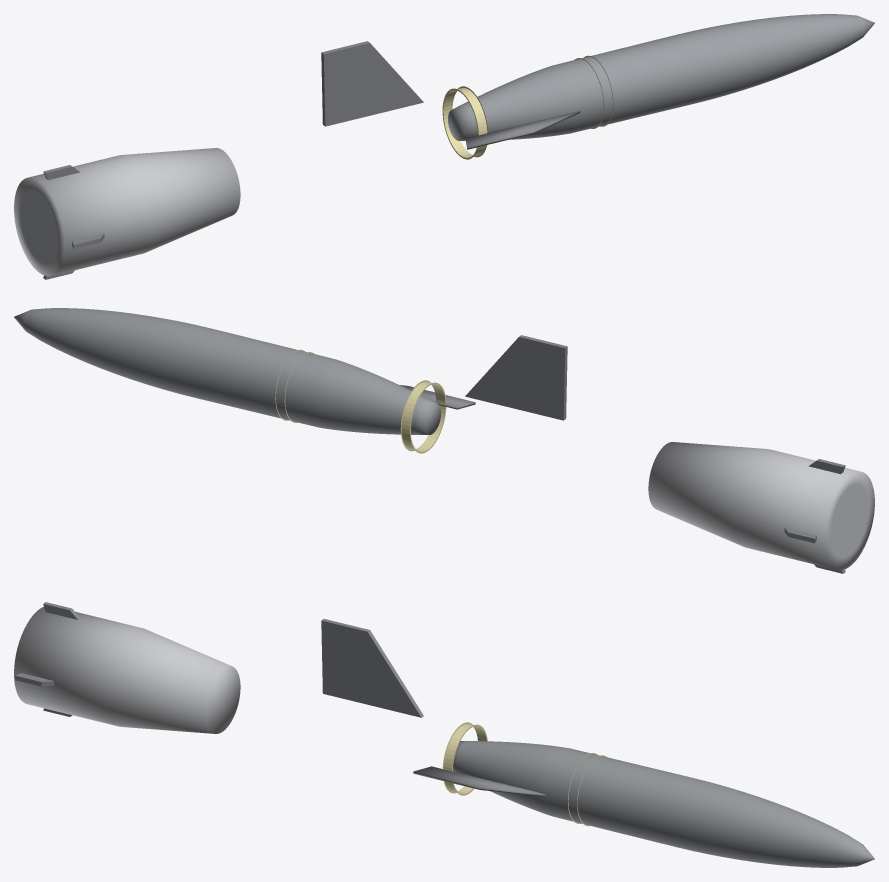
The model's file is US_ASM_Harpoon_LOD0.fbx.
3 renders of one model, top to bottom at view 1: azimuth 30°, elevation 25°; view 2: azimuth 150°, elevation 25°; view 3: azimuth 330°, elevation 25°, orthographic.
Visible parts, largest first — view 1: WPN_US_ASM_Harpoon_LOD0_Body, WPN_US_ASM_Harpoon_LOD0_Tail, WPN_US_ASM_Harpoon_LOD0_Wings, WPN_US_ASM_Harpoon_LOD0_Marking, WPN_US_ASM_Harpoon_LOD0_Detail, WPN_US_ASM_Harpoon_LOD0_Fins; view 2: WPN_US_ASM_Harpoon_LOD0_Body, WPN_US_ASM_Harpoon_LOD0_Tail, WPN_US_ASM_Harpoon_LOD0_Wings, WPN_US_ASM_Harpoon_LOD0_Marking, WPN_US_ASM_Harpoon_LOD0_Fins; view 3: WPN_US_ASM_Harpoon_LOD0_Body, WPN_US_ASM_Harpoon_LOD0_Tail, WPN_US_ASM_Harpoon_LOD0_Wings, WPN_US_ASM_Harpoon_LOD0_Detail, WPN_US_ASM_Harpoon_LOD0_Marking, WPN_US_ASM_Harpoon_LOD0_Fins.
Part boxes in pixels (left/top/right/bottom): WPN_US_ASM_Harpoon_LOD0_Body: left=448, top=14, right=874, bottom=140; WPN_US_ASM_Harpoon_LOD0_Tail: left=14, top=148, right=240, bottom=276; WPN_US_ASM_Harpoon_LOD0_Wings: left=321, top=41, right=423, bottom=126; WPN_US_ASM_Harpoon_LOD0_Marking: left=442, top=55, right=613, bottom=159; WPN_US_ASM_Harpoon_LOD0_Detail: left=465, top=111, right=580, bottom=149; WPN_US_ASM_Harpoon_LOD0_Fins: left=43, top=165, right=104, bottom=279; WPN_US_ASM_Harpoon_LOD0_Body: left=14, top=308, right=440, bottom=434; WPN_US_ASM_Harpoon_LOD0_Tail: left=648, top=442, right=874, bottom=570; WPN_US_ASM_Harpoon_LOD0_Wings: left=465, top=335, right=567, bottom=420; WPN_US_ASM_Harpoon_LOD0_Marking: left=275, top=349, right=446, bottom=453; WPN_US_ASM_Harpoon_LOD0_Fins: left=784, top=459, right=845, bottom=573; WPN_US_ASM_Harpoon_LOD0_Body: left=452, top=741, right=874, bottom=867; WPN_US_ASM_Harpoon_LOD0_Tail: left=14, top=606, right=240, bottom=733; WPN_US_ASM_Harpoon_LOD0_Wings: left=321, top=619, right=423, bottom=717; WPN_US_ASM_Harpoon_LOD0_Detail: left=413, top=766, right=545, bottom=796; WPN_US_ASM_Harpoon_LOD0_Marking: left=442, top=722, right=606, bottom=826; WPN_US_ASM_Harpoon_LOD0_Fins: left=15, top=602, right=80, bottom=716.
Bounding box in the file's own units: 4.6 × 0.5614 × 0.8307.
